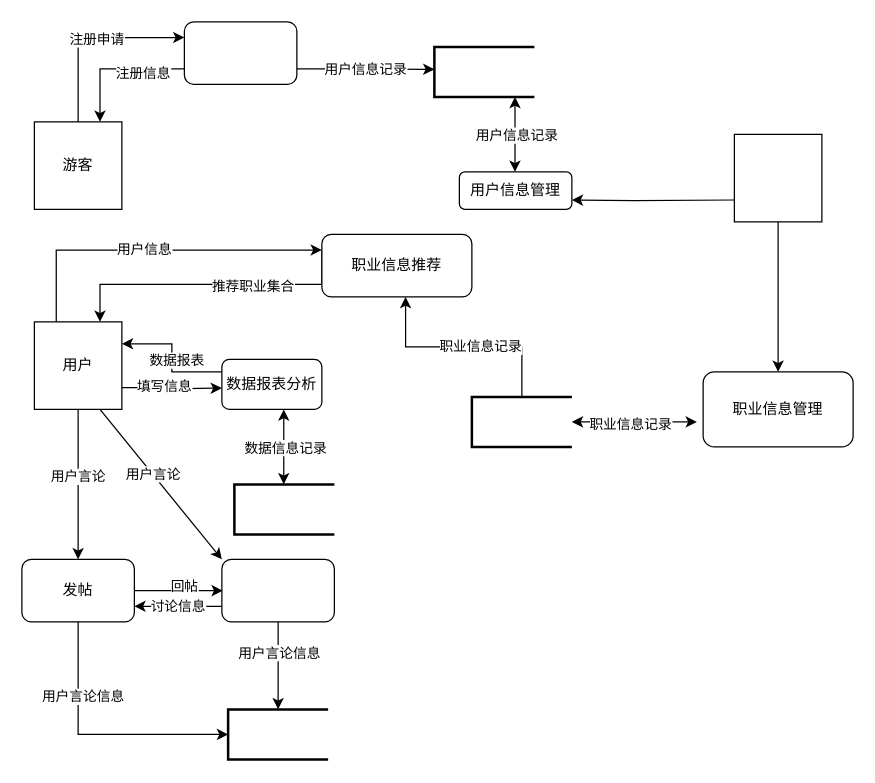
The diagram is 875 pixels wide and 783 high, and some of its shapes have lost their labels. The centre of each missing label's shape, as x and y in pixels:
"参与交流" goes at (277,590).
"用户注册" goes at (240,52).
"管理员" goes at (777,177).
